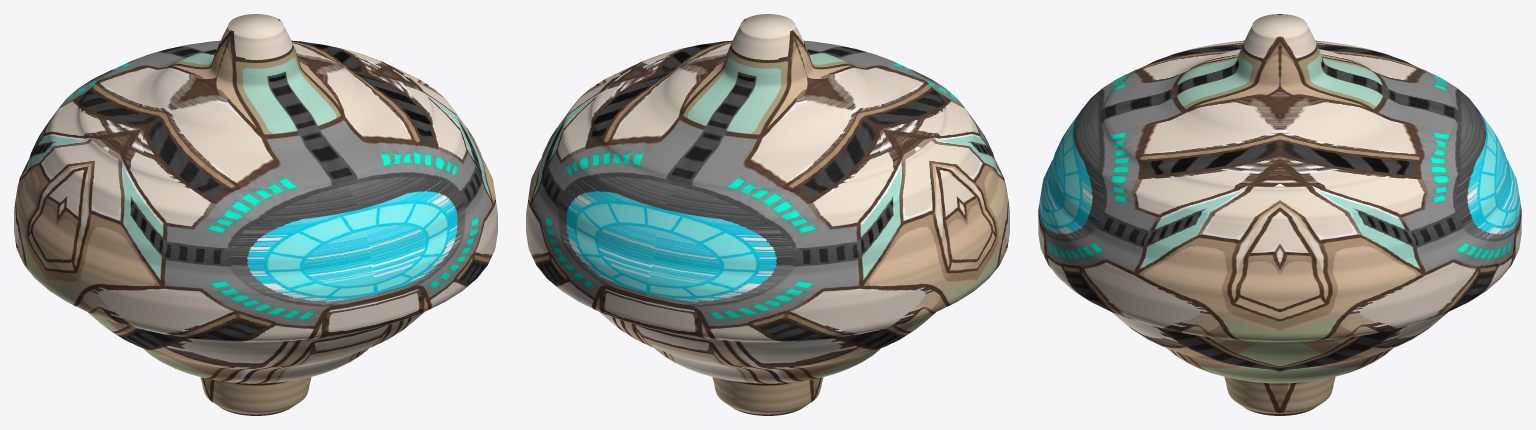
Rendered from dock_hub.glb.
3 renders of one model, left to right at view 1: azimuth 30°, elevation 25°; view 2: azimuth 150°, elevation 25°; view 3: azimuth 270°, elevation 25°, orthographic.
Parts seen in each view (by area): view 1: dock_hub; view 2: dock_hub; view 3: dock_hub.
Part boxes in pixels (left/top/right/bottom): dock_hub: left=14, top=14, right=497, bottom=415; dock_hub: left=526, top=14, right=1009, bottom=415; dock_hub: left=1038, top=14, right=1521, bottom=415.
Bounding box in the file's own units: 1 × 0.8523 × 1.
1 material, 1 textured.
